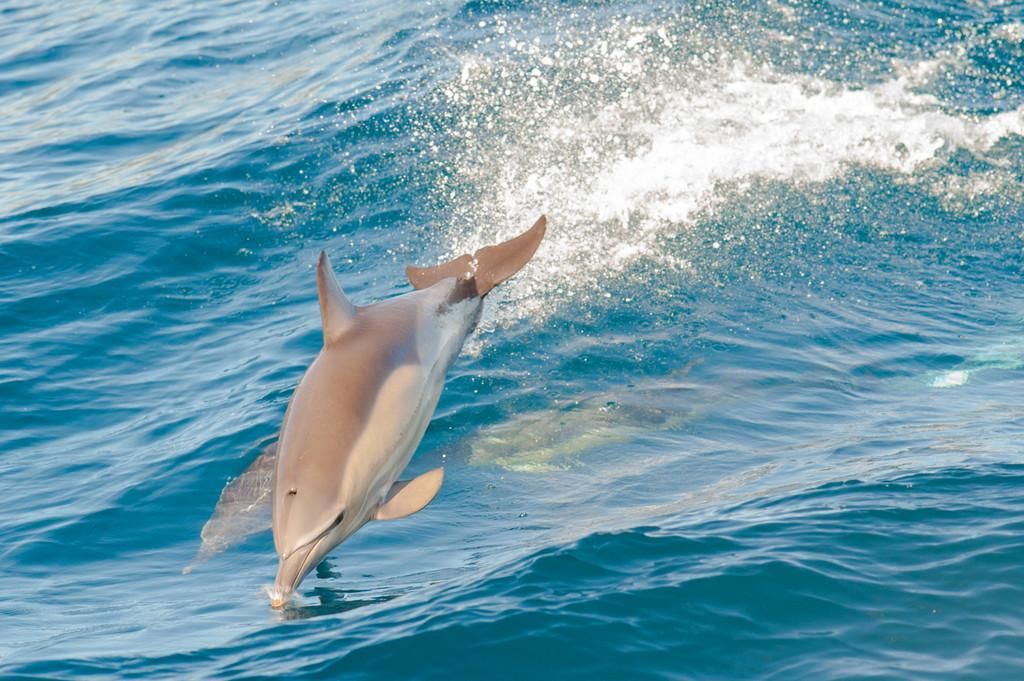fish: (253, 214, 552, 618)
